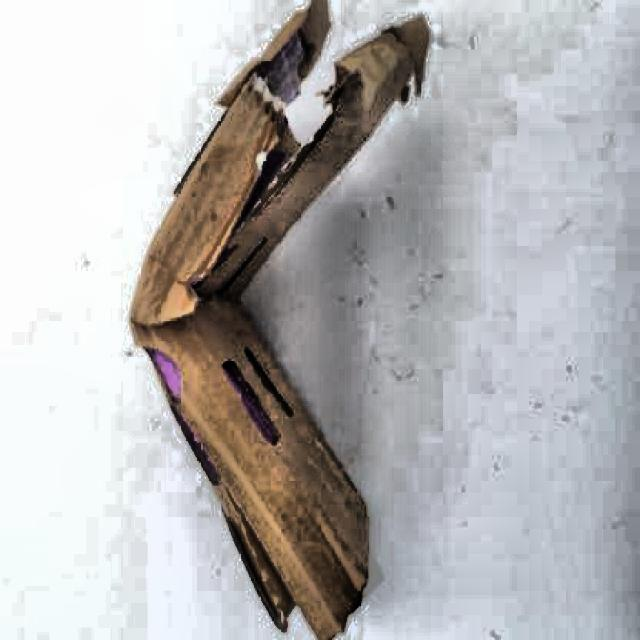Cardbox: (110, 1, 457, 640)
